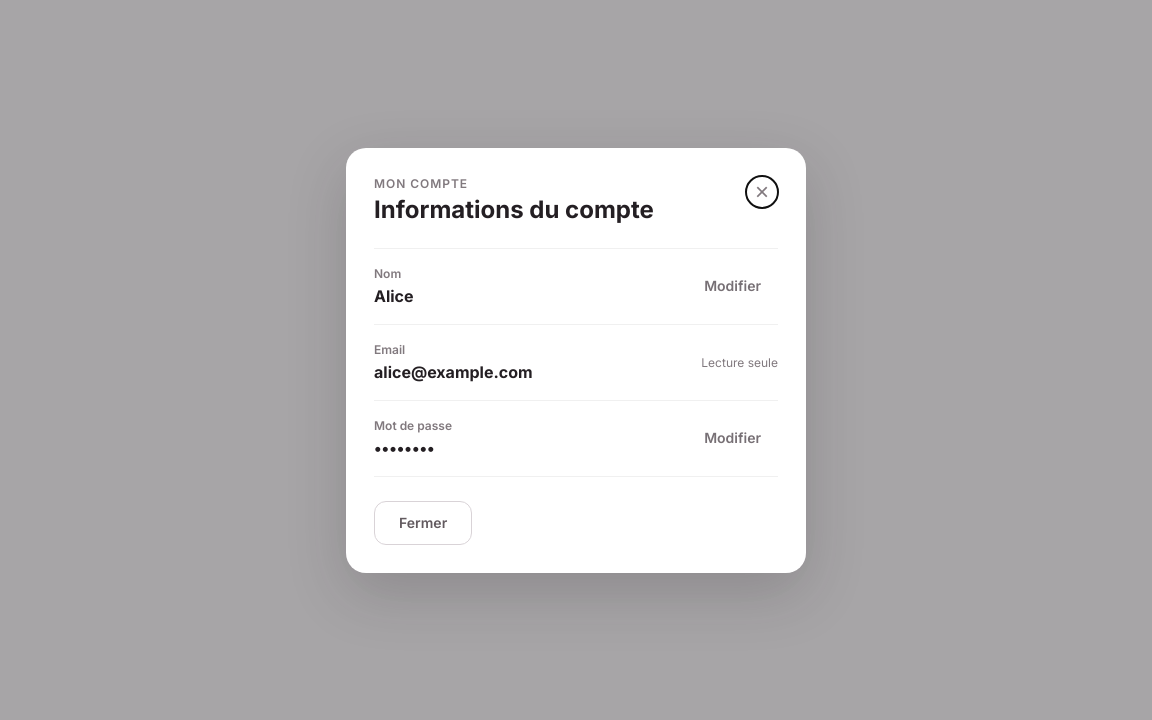
Test case: AccountInfoModal › valide la longueur minimale du nouveau mot de passe côté client
Click the button "Modifier" in the row of "Mot de passe" at (733, 438), box [687, 416, 778, 460]
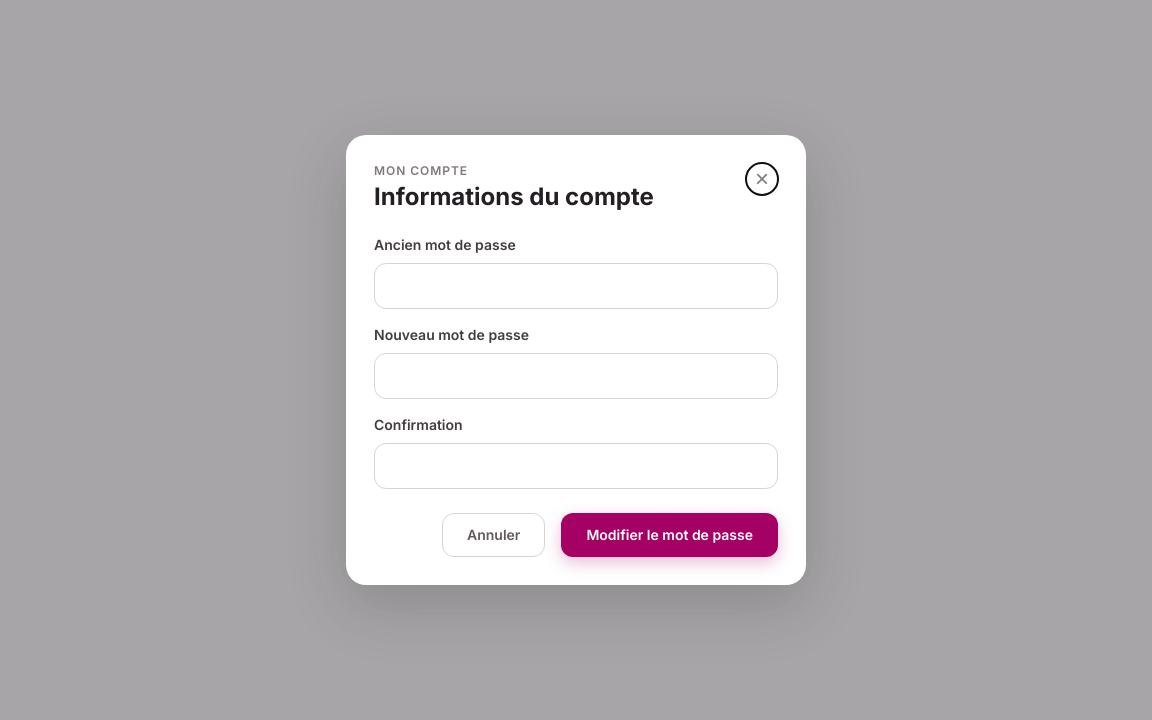
Type "ancien" into the password field labelled "Ancien mot de passe" at (576, 286), box [374, 263, 778, 309]
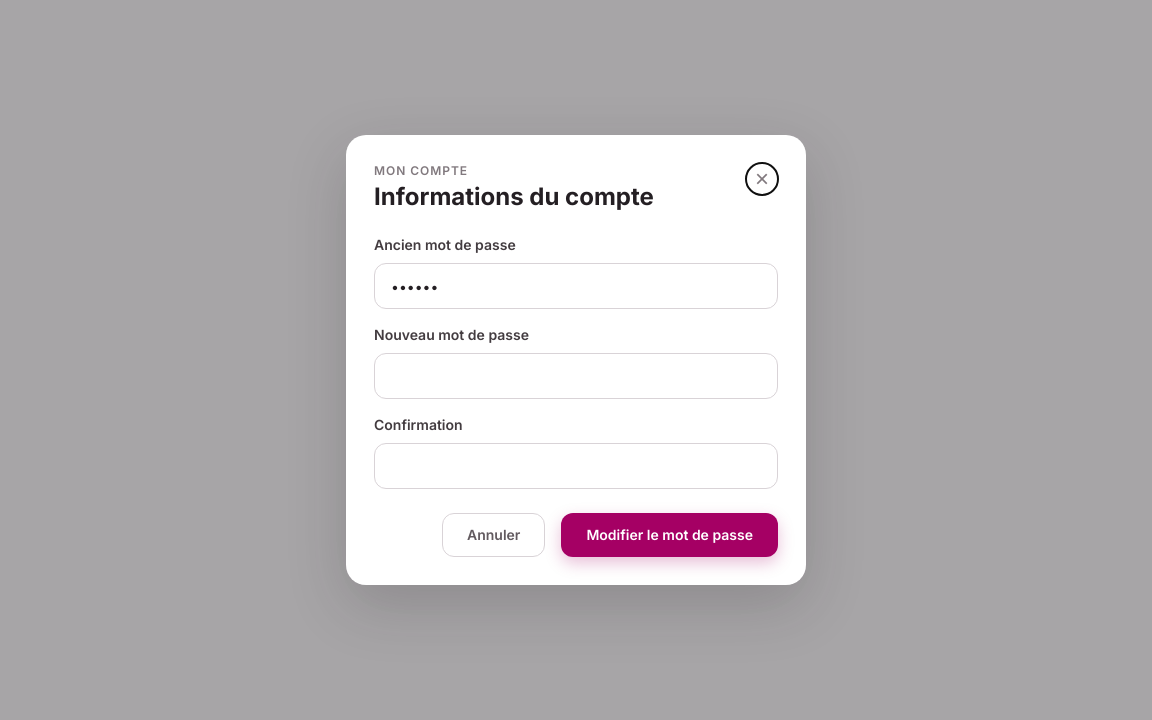
Type "court" into the password field labelled "Nouveau mot de passe" at (576, 376), box [374, 353, 778, 399]
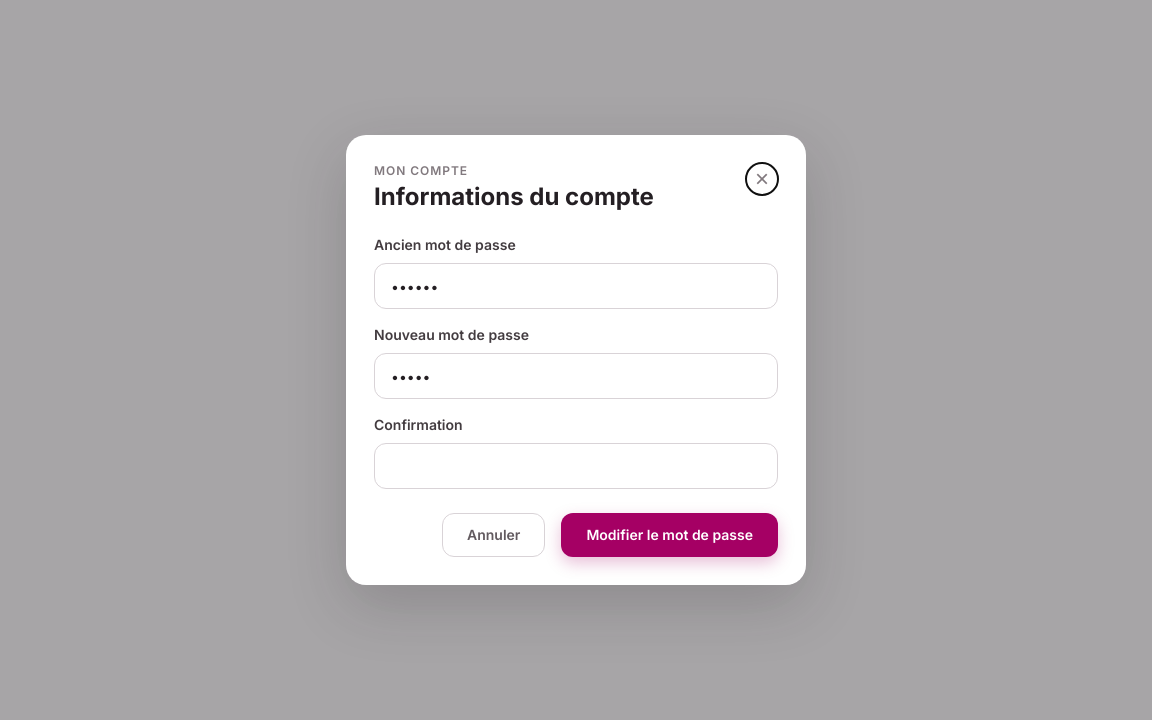
Type "court" into the password field labelled "Confirmation" at (576, 466), box [374, 443, 778, 489]
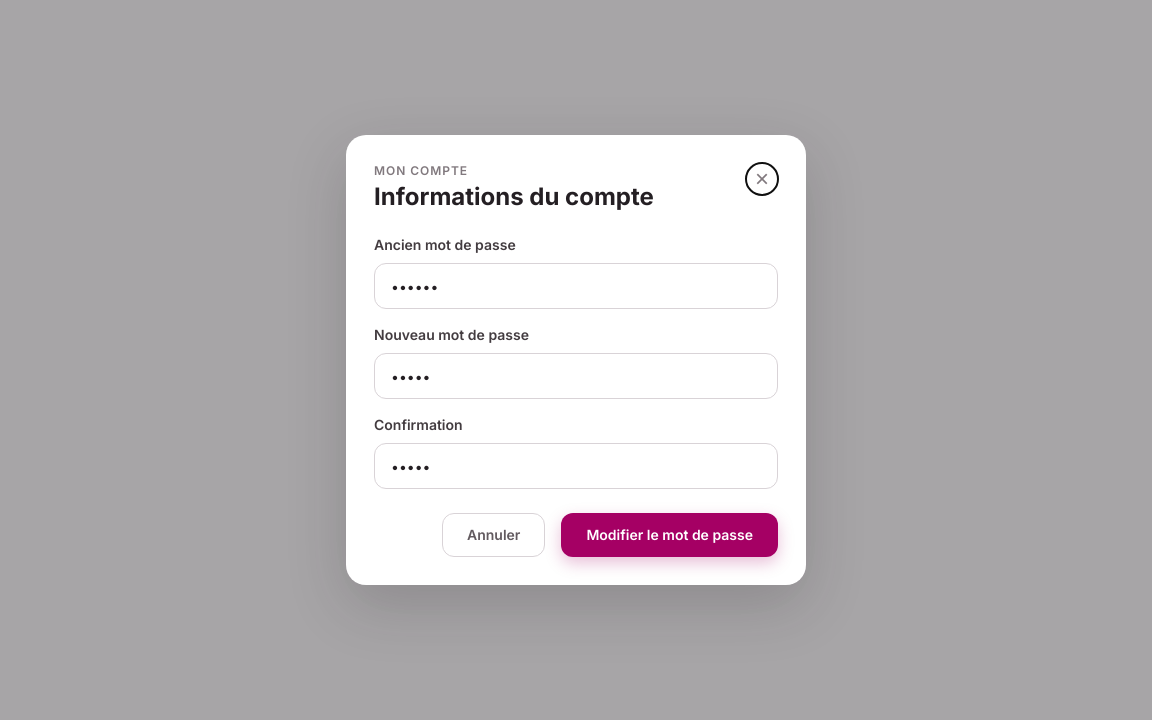
Click the button "Modifier le mot de passe" at (670, 535), box [561, 513, 778, 557]
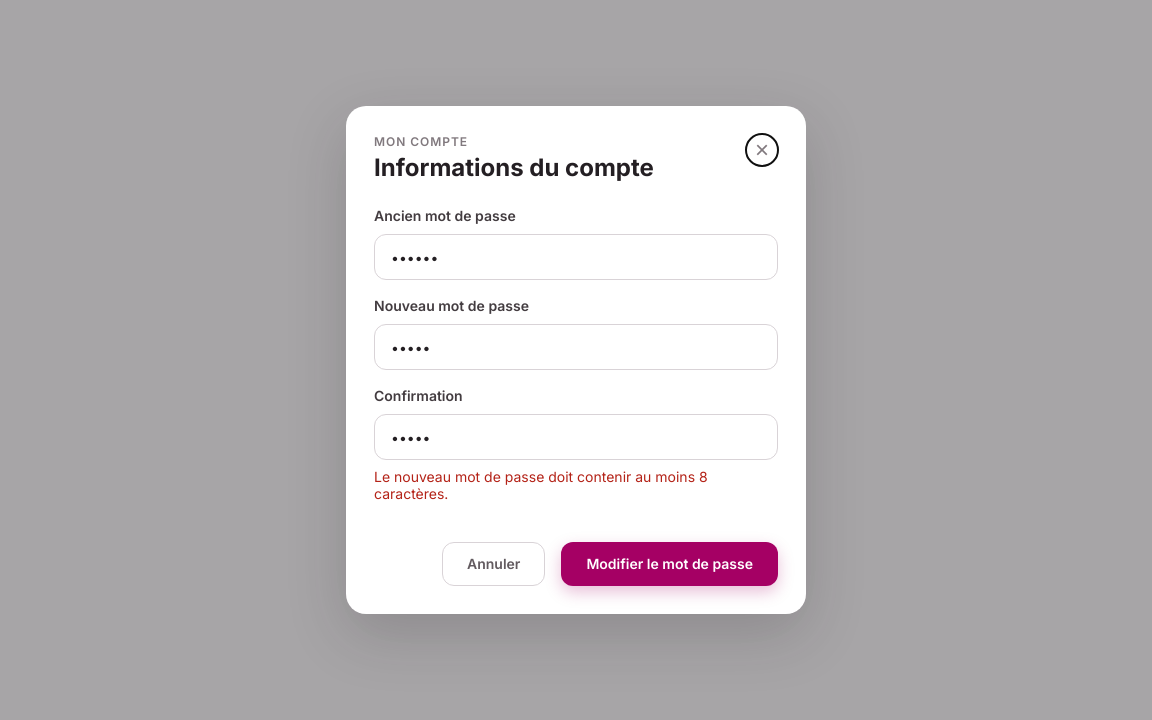
Check: the message shows "au moins 8 caractères", box [374, 468, 708, 502]
